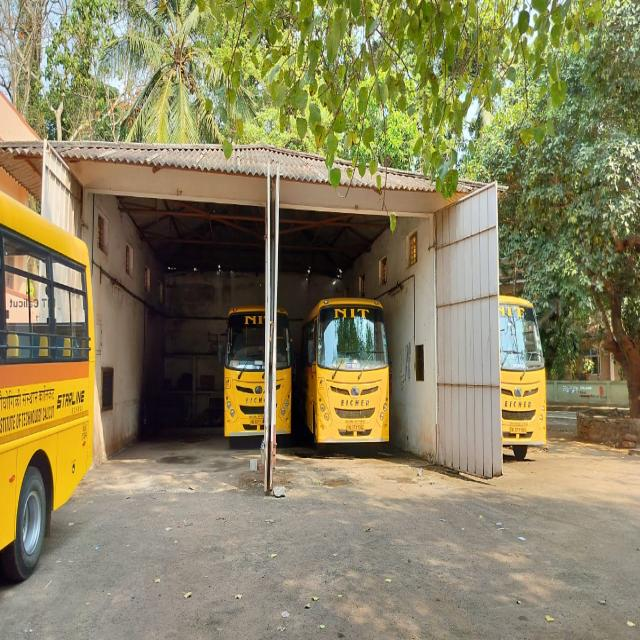bus ahead at: (306, 293, 393, 466), (227, 304, 296, 450), (502, 301, 547, 454)
gate ahead at: (435, 201, 501, 478)
